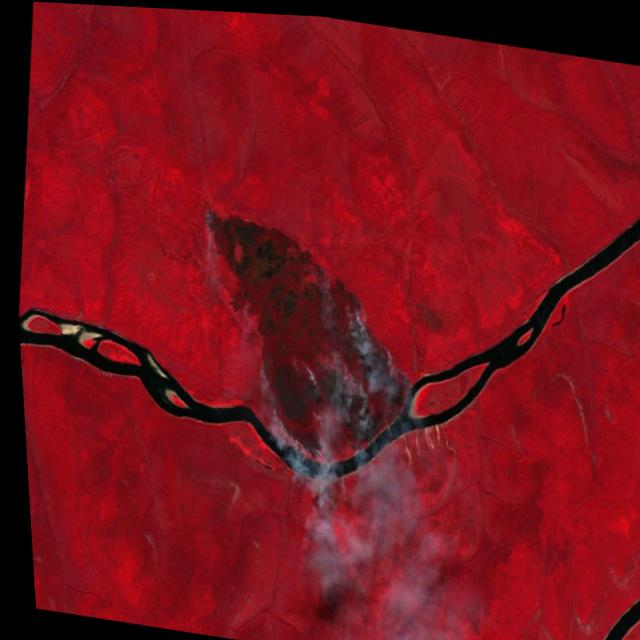fire: (173, 199, 430, 475)
